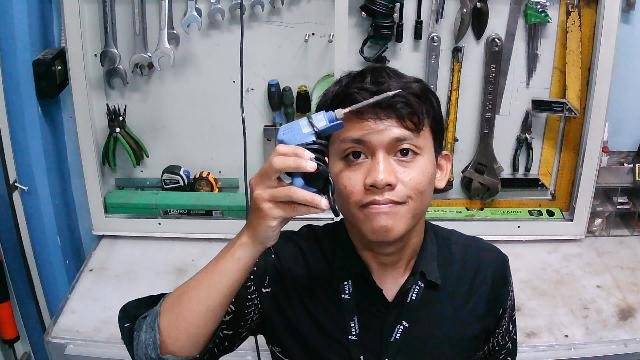solder_electrical: (277, 89, 411, 220)
